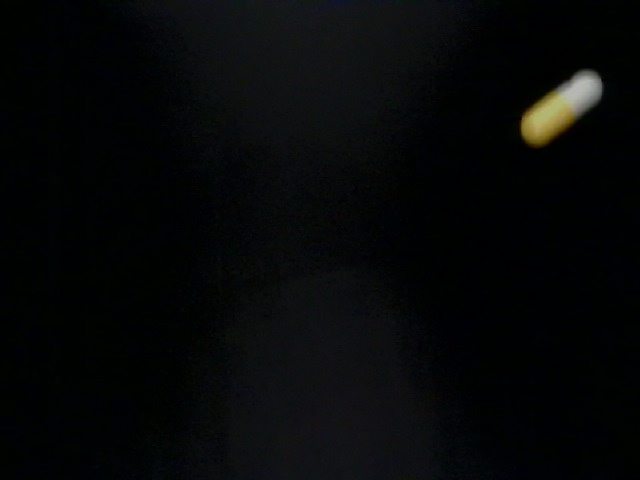YHLJ: (219, 303, 314, 374)
